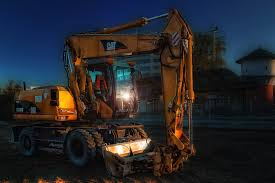excavator: (9, 12, 201, 174)
